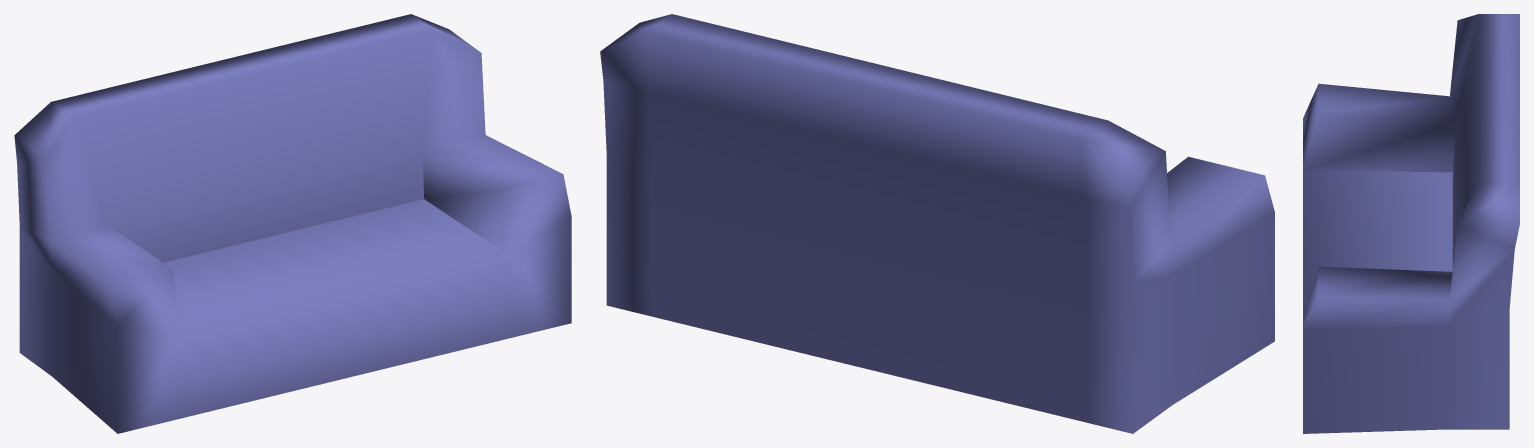
File: sm_Sofa.fbx
The picture shows the model from 3 angles, left to right: view 1: azimuth 30°, elevation 25°; view 2: azimuth 150°, elevation 25°; view 3: azimuth 270°, elevation 25°; orthographic projection. The views are drawn at different scales.
Visible parts, largest first — view 1: sm_Sofa; view 2: sm_Sofa; view 3: sm_Sofa.
Boxes of the visible parts, box(x1,y1,x2,y2) form: sm_Sofa: box(14, 14, 571, 433); sm_Sofa: box(600, 14, 1274, 433); sm_Sofa: box(1303, 14, 1519, 433).
Bounding box in the file's own units: 2.1 × 1.05 × 0.9032.
